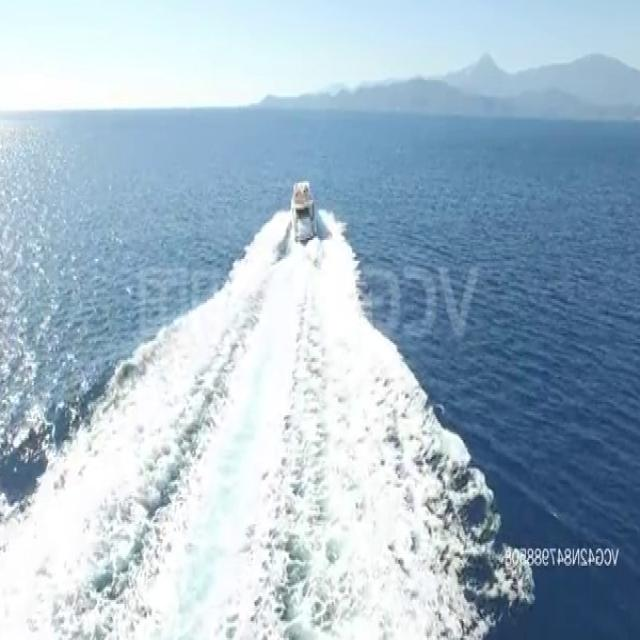houseboat: (292, 179, 318, 245)
